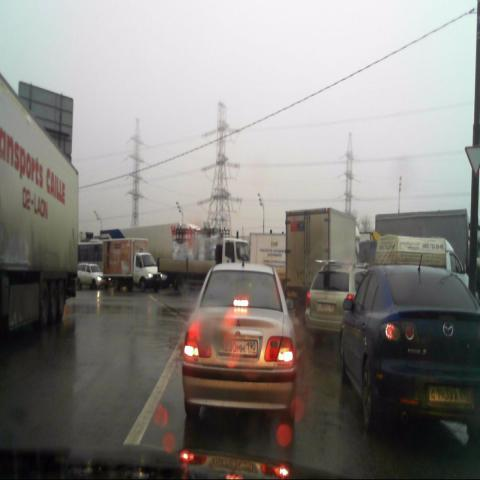2_4: (464, 145, 480, 177)
